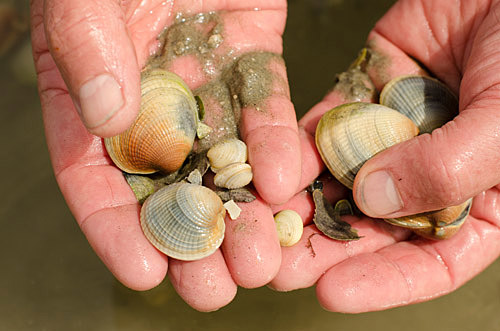cockle: (100, 66, 201, 176), (313, 103, 419, 188), (137, 180, 229, 262), (378, 72, 461, 131), (387, 197, 475, 241)
